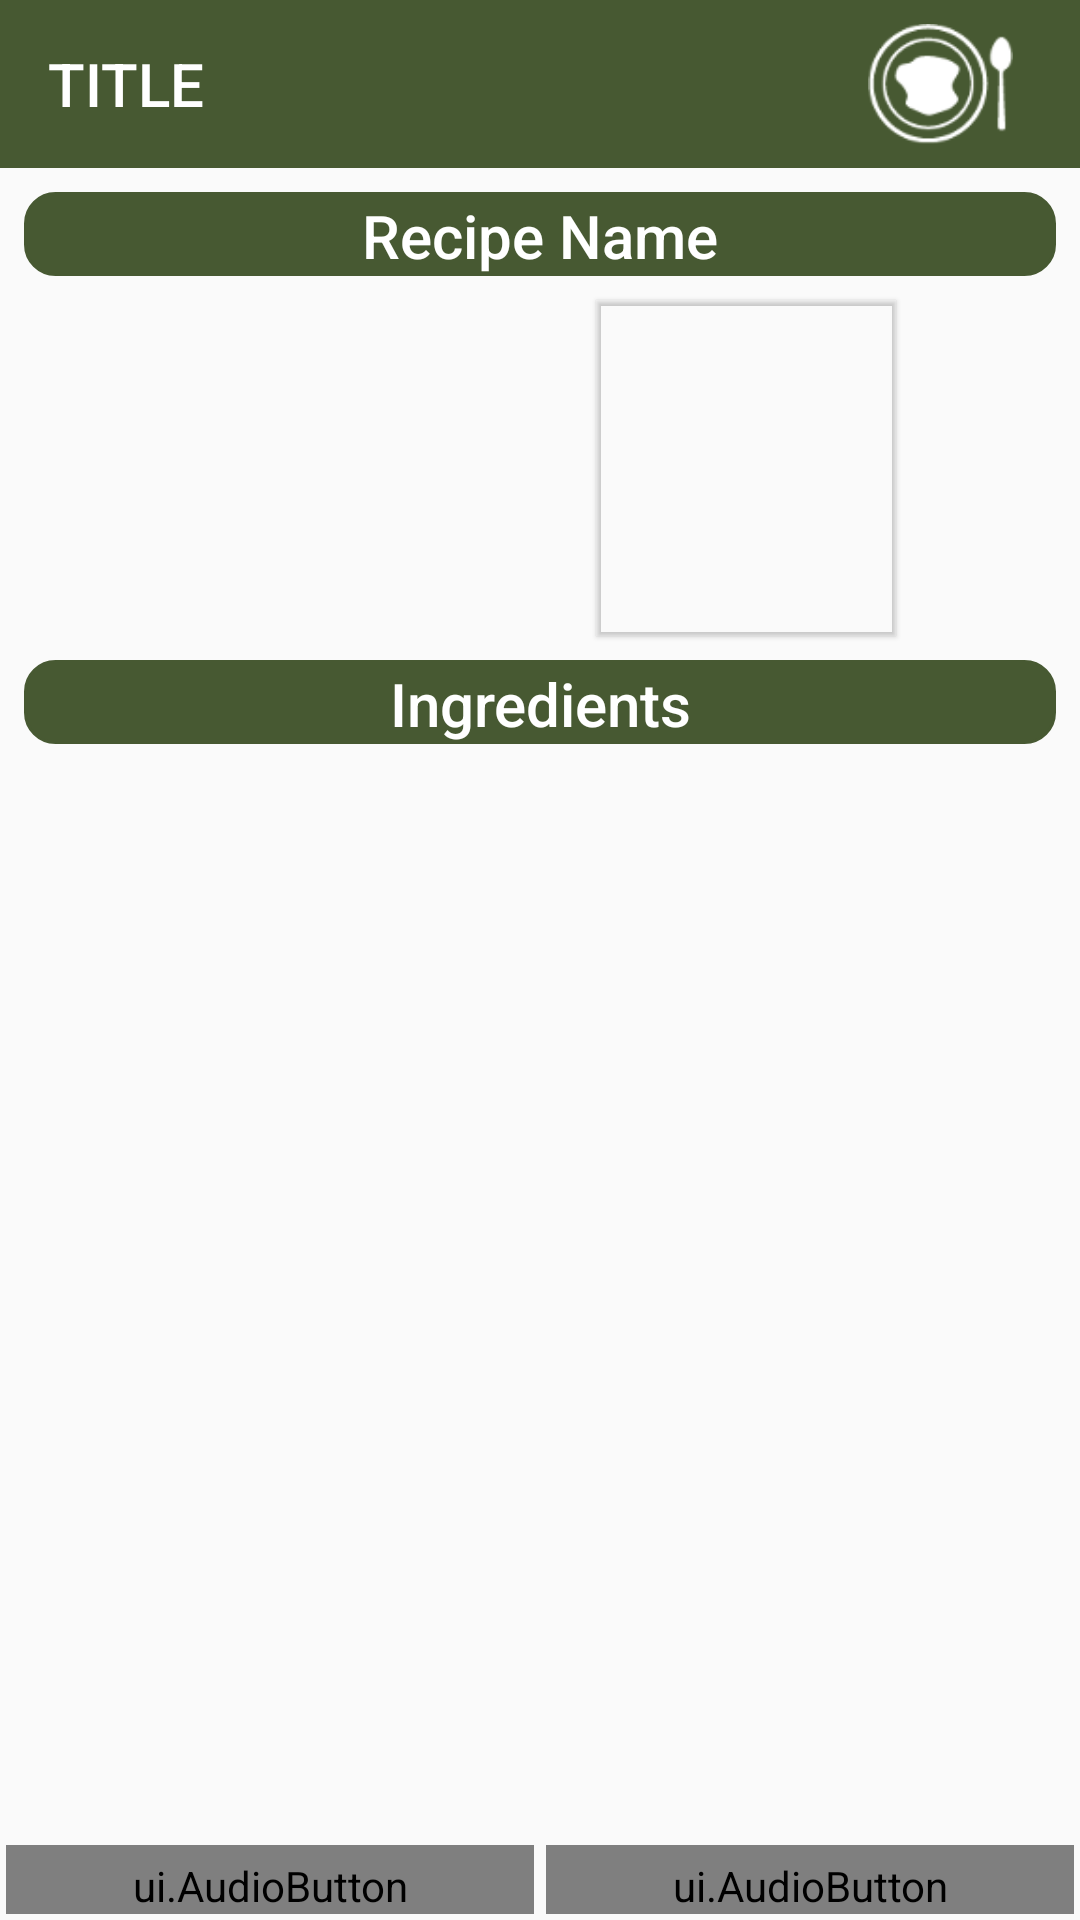

Icons on this 1080px x 1920px Android screen, each with its box as (x1=x1, y1=y1, x2=x2, y2=y2):
eat: (x1=868, y1=24, x2=1013, y2=143)
